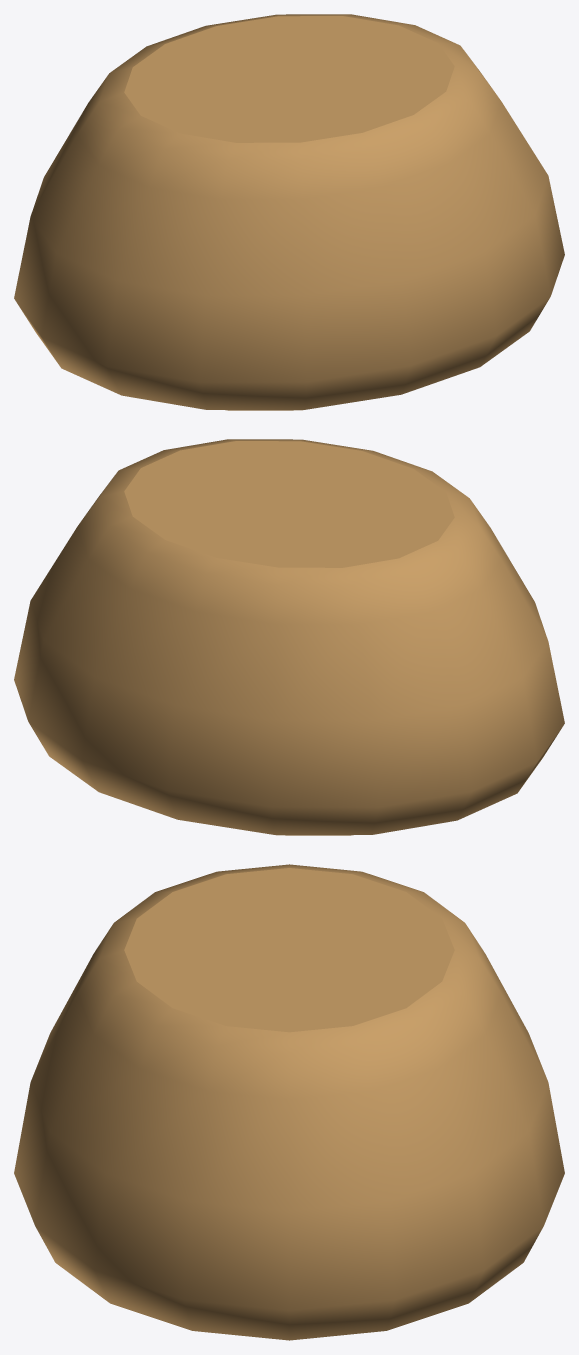
Rendered from mammal-arm-segments.glb.
3 renders of one model, top to bottom at view 1: azimuth 30°, elevation 25°; view 2: azimuth 150°, elevation 25°; view 3: azimuth 270°, elevation 25°, orthographic. The views are drawn at different scales.
Parts seen in each view (by area): view 1: UpperArm, Forearm; view 2: UpperArm, Forearm; view 3: UpperArm, Forearm.
Part boxes in pixels (bbox=[...]): UpperArm: bbox=[14, 14, 564, 409]; Forearm: bbox=[143, 23, 432, 410]; UpperArm: bbox=[14, 439, 564, 834]; Forearm: bbox=[146, 448, 435, 835]; UpperArm: bbox=[14, 864, 564, 1340]; Forearm: bbox=[143, 877, 435, 1022].
Bounding box in the file's own units: 2 × 1 × 1.7.
